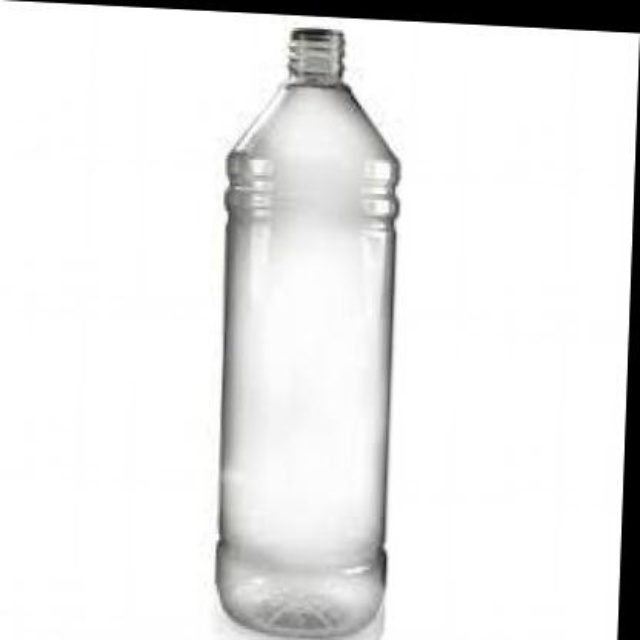trash: (217, 29, 397, 635)
